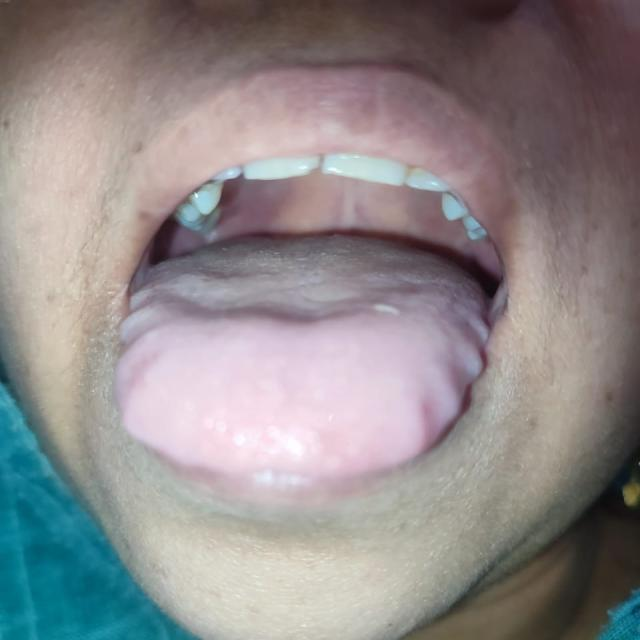No Cancer: (153, 177, 464, 363)
